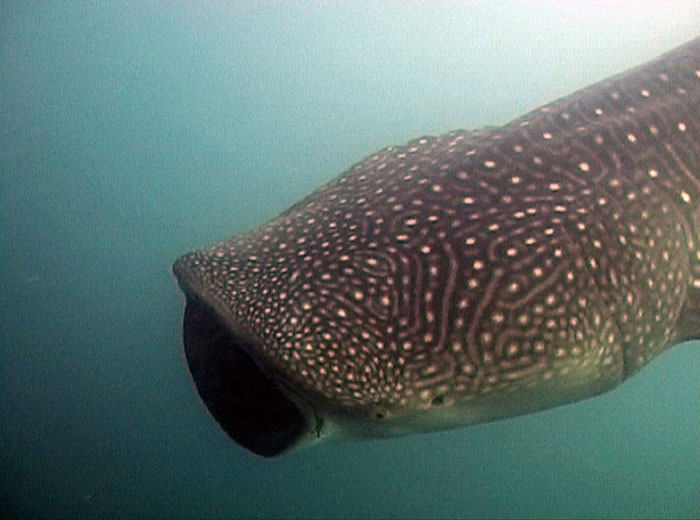Rhincodon_typusw: (149, 25, 700, 459)
